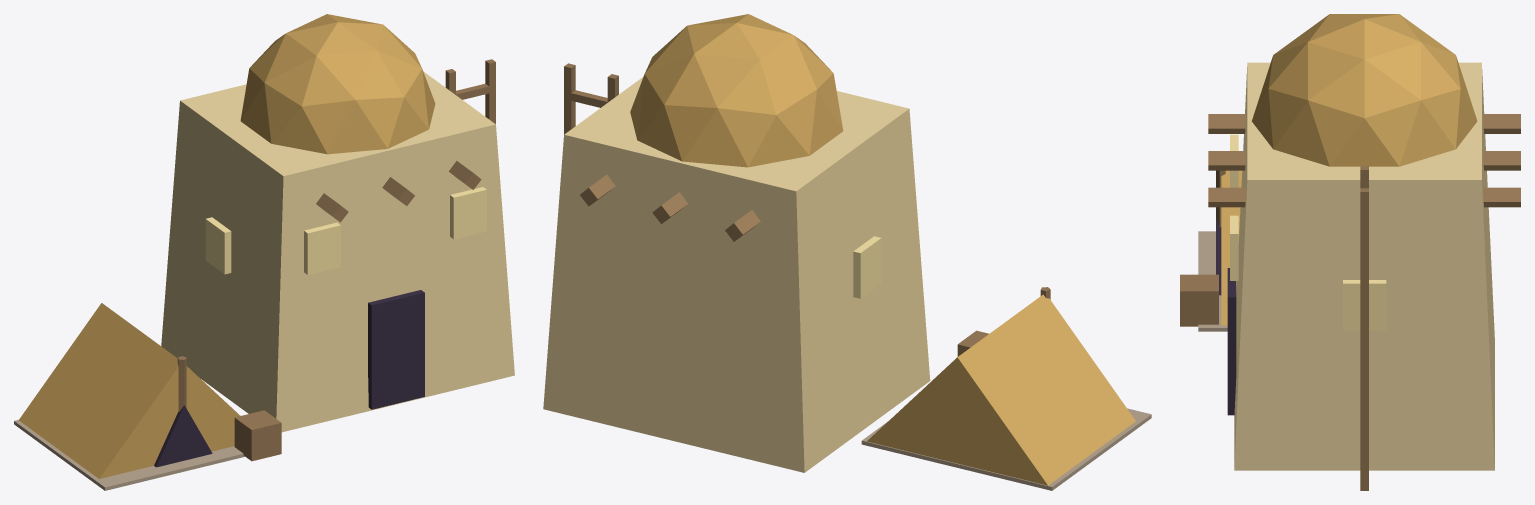
File: sand-landmark-s2.glb
3 renders of one model, left to right at view 1: azimuth 30°, elevation 25°; view 2: azimuth 150°, elevation 25°; view 3: azimuth 270°, elevation 25°, orthographic. The views are drawn at different scales.
Parts seen in each view (by area): view 1: sand-landmark-s2; view 2: sand-landmark-s2; view 3: sand-landmark-s2.
Part boxes in pixels (x1=…): sand-landmark-s2: x1=14, y1=14, x2=514, y2=490; sand-landmark-s2: x1=543, y1=14, x2=1151, y2=490; sand-landmark-s2: x1=1180, y1=14, x2=1520, y2=490.
Size of the model in its own units: 1.39 by 0.98 by 0.785.
